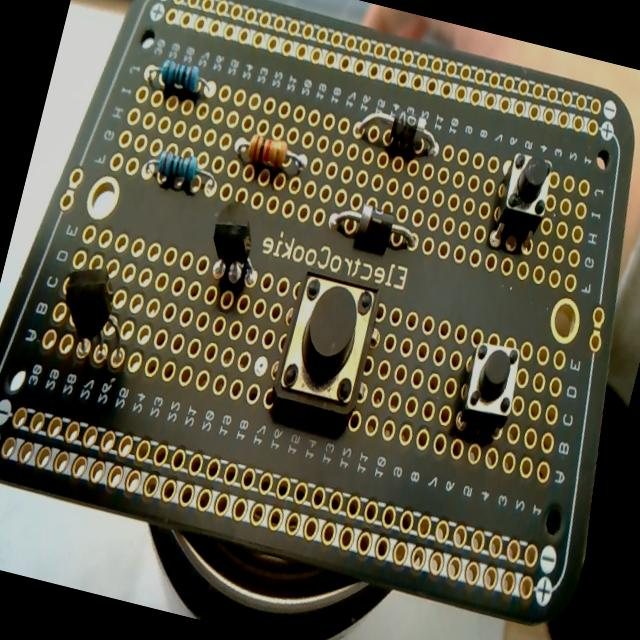diode: (325, 194, 422, 258), (352, 98, 448, 162)
resistor: (140, 143, 222, 202), (234, 130, 312, 182), (154, 57, 205, 103)
switch: (270, 266, 386, 426), (485, 148, 558, 256), (455, 334, 526, 436)
transistor: (49, 258, 142, 368), (198, 202, 272, 300)
